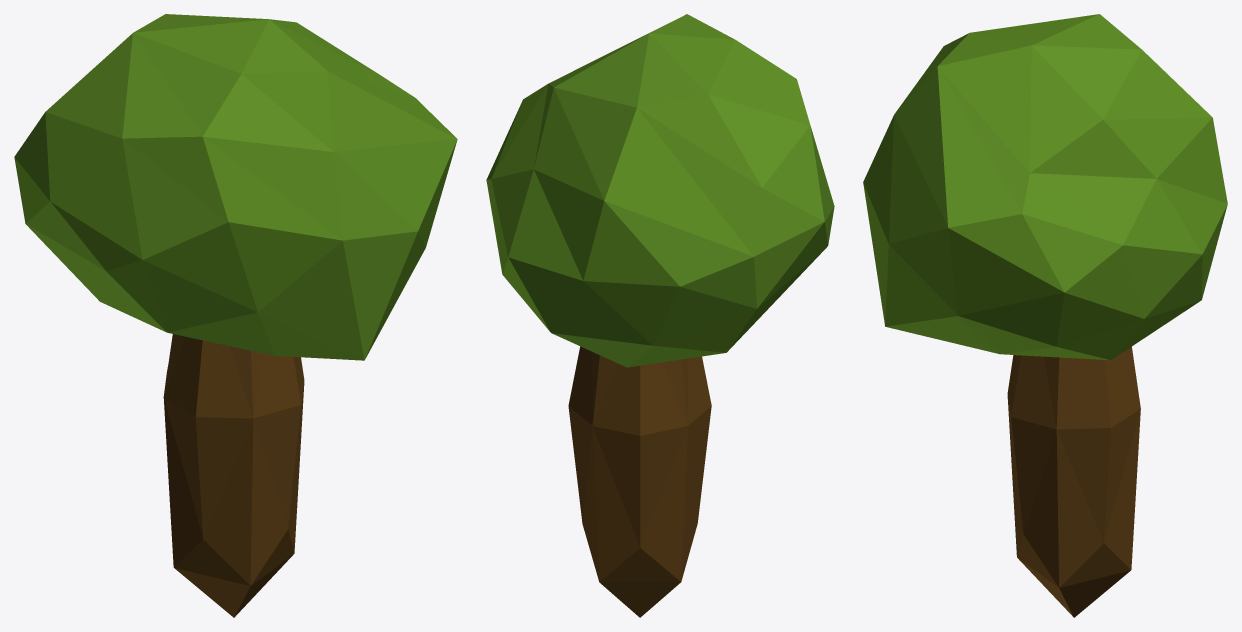
Rendered from tree2.dae.
3 views of the same model, side by side, from view 1: azimuth 30°, elevation 25°; view 2: azimuth 150°, elevation 25°; view 3: azimuth 270°, elevation 25° (orthographic). The views are drawn at different scales.
Parts seen in each view (by area): view 1: Icosphere_059, Cube_009; view 2: Icosphere_059, Cube_009; view 3: Icosphere_059, Cube_009.
Boxes of the visible parts, x1,y1,x2,y2 form: Icosphere_059: (14,14,457,360); Cube_009: (163,334,304,617); Icosphere_059: (486,14,834,367); Cube_009: (568,346,711,617); Icosphere_059: (863,14,1227,360); Cube_009: (1007,346,1140,617).
Bounding box in the file's own units: 1.34 × 1.24 × 2.17.
